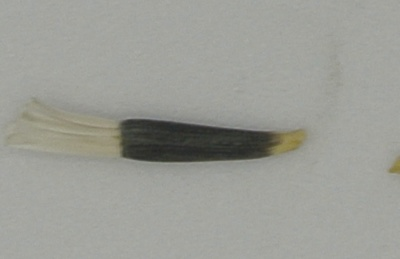เมล็ดดีติดกัน: (4, 95, 308, 165)
